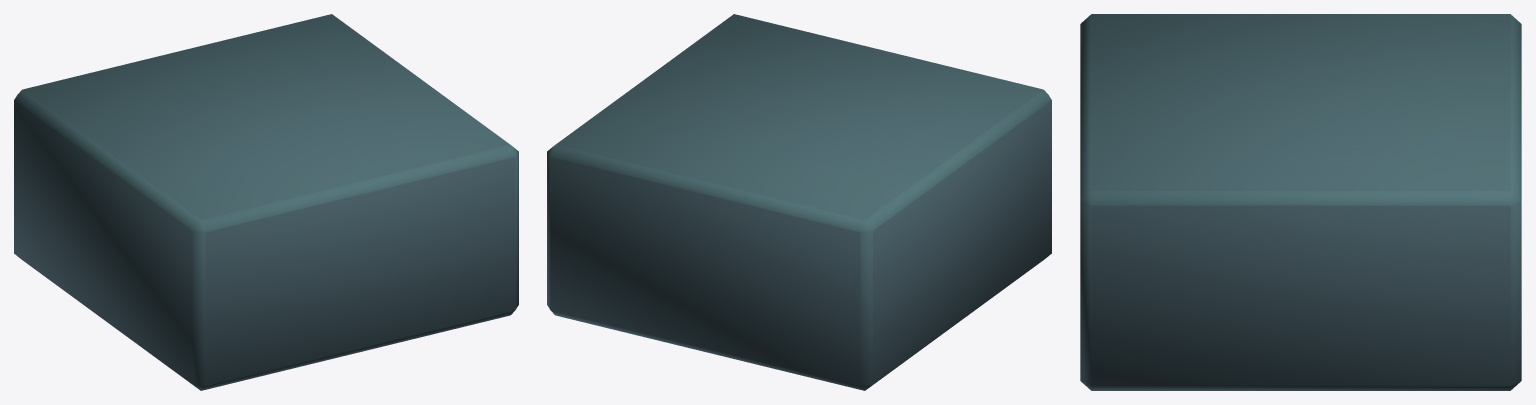
Rendered from cube_06_hue_2.fbx.
The picture shows the model from 3 angles, left to right: view 1: azimuth 30°, elevation 25°; view 2: azimuth 150°, elevation 25°; view 3: azimuth 270°, elevation 25°; orthographic projection. The views are drawn at different scales.
Parts seen in each view (by area): view 1: cube_06_hue_2; view 2: cube_06_hue_2; view 3: cube_06_hue_2.
Boxes of the visible parts, x1=… form: cube_06_hue_2: x1=14, y1=14, x2=518, y2=390; cube_06_hue_2: x1=547, y1=14, x2=1051, y2=390; cube_06_hue_2: x1=1080, y1=14, x2=1521, y2=390.
Bounding box in the file's own units: 200 × 100 × 200.
